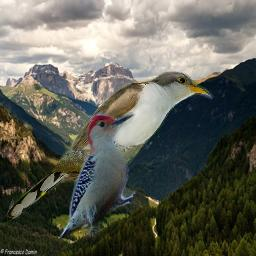Cuckoo: (3, 69, 216, 222)
Woodpecker: (58, 112, 136, 241)
